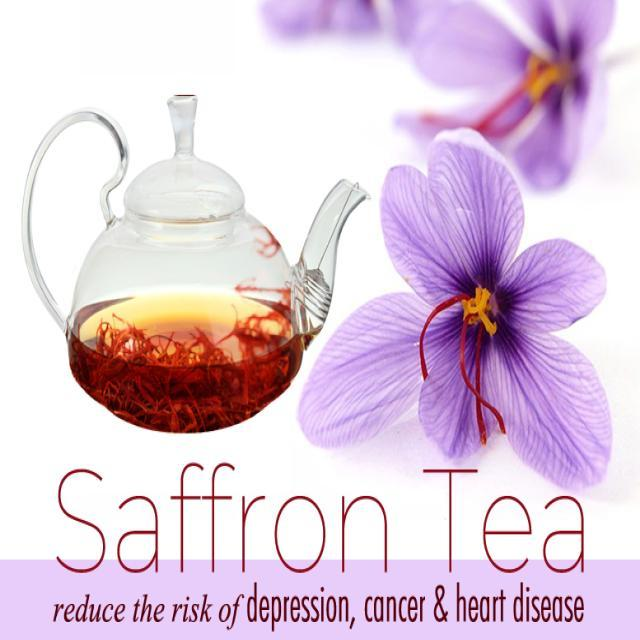Flower: (295, 136, 612, 496), (256, 0, 616, 201)
stigma: (457, 333, 513, 435), (413, 290, 463, 376), (469, 333, 492, 441)
